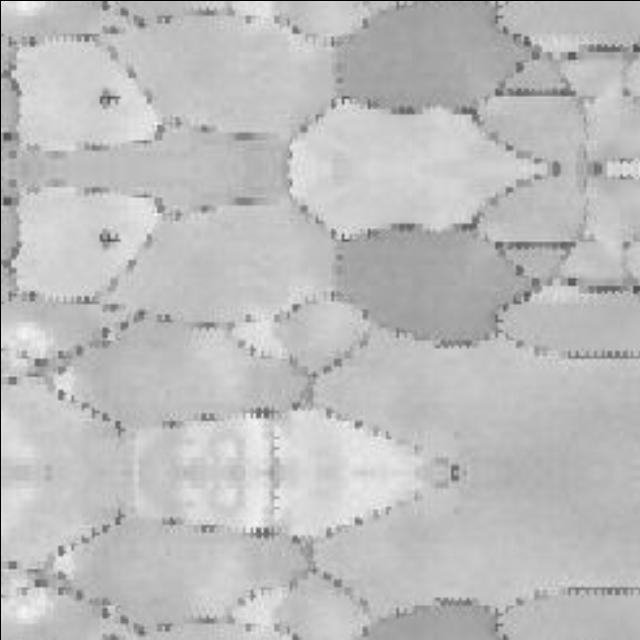good_void: (97, 85, 121, 110), (97, 228, 121, 252)
